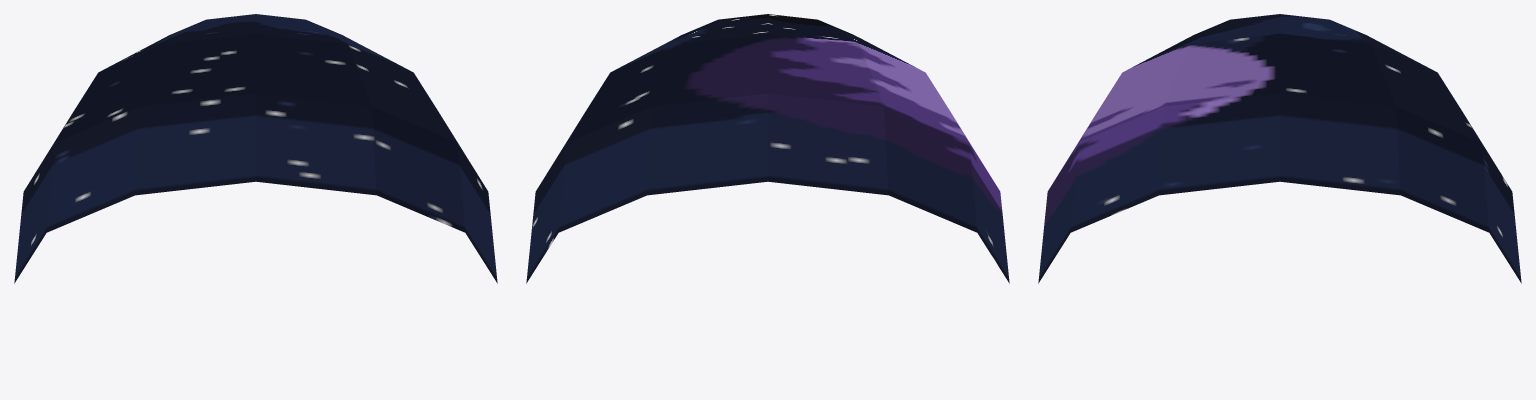
File: skyx.starfield.glb
3 renders of one model, left to right at view 1: azimuth 30°, elevation 25°; view 2: azimuth 150°, elevation 25°; view 3: azimuth 270°, elevation 25°, orthographic.
Visible parts, largest first — view 1: kit_shell_sky; view 2: kit_shell_sky; view 3: kit_shell_sky.
Boxes of the visible parts, box(x1,y1,x2,y2) form: kit_shell_sky: box(14, 14, 497, 283); kit_shell_sky: box(526, 14, 1009, 283); kit_shell_sky: box(1038, 14, 1521, 283).
Bounding box in the file's own units: 596 × 336 × 596.
Materials: 1 (1 with a texture image).
